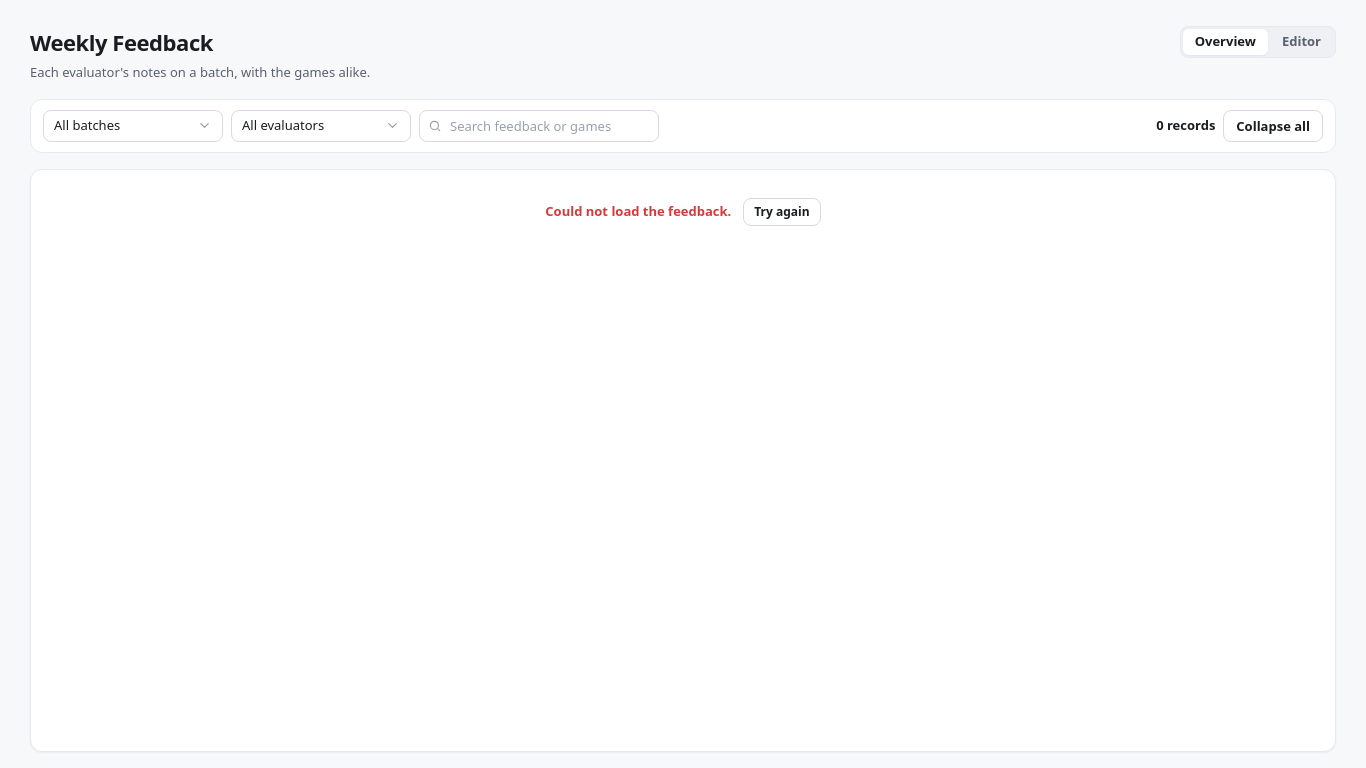
Test case: Weekly Feedback › shows a failed load as an error, not as an empty list
Expected: the text "Could not load the feedback." is shown, [545, 202, 731, 221]
Click the button "Try again" at (782, 212), box [743, 198, 821, 226]
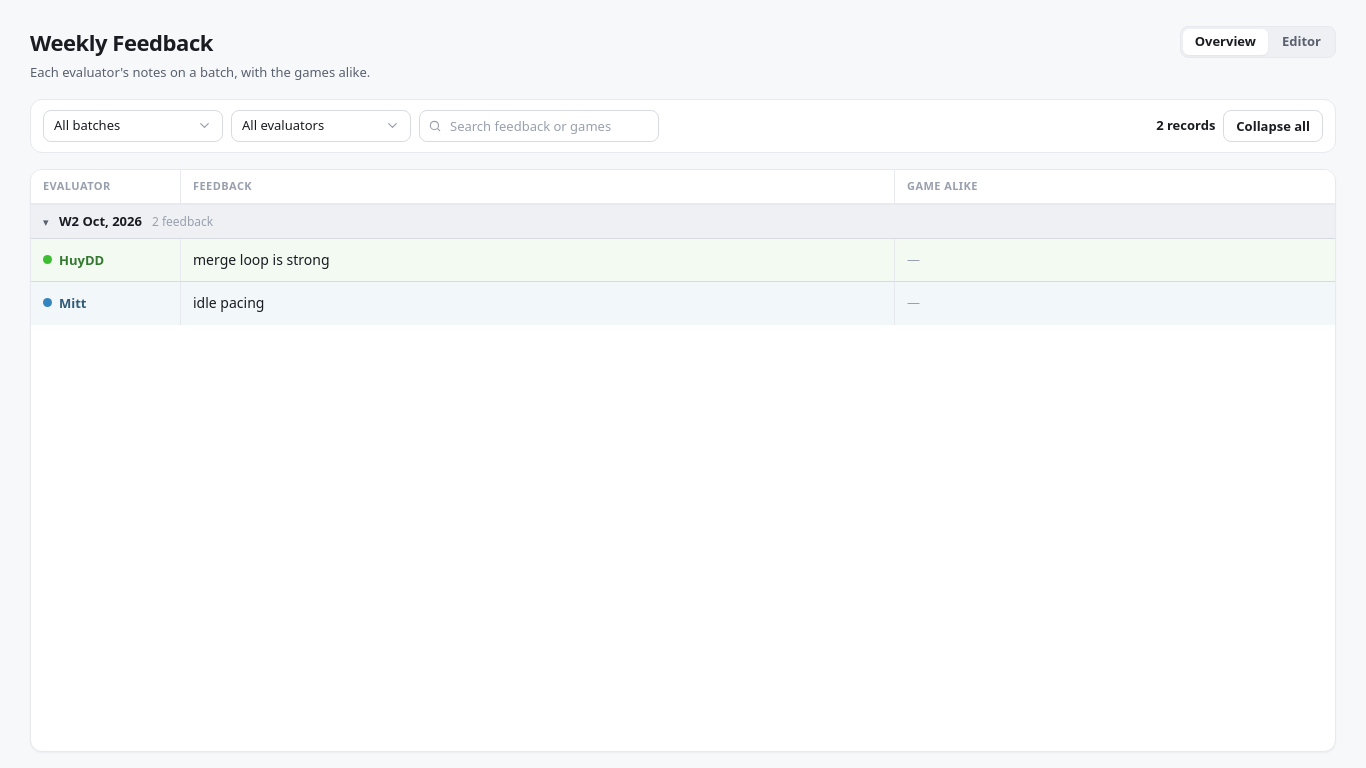
Now the text "2 records" is shown, box [1156, 116, 1215, 135]
